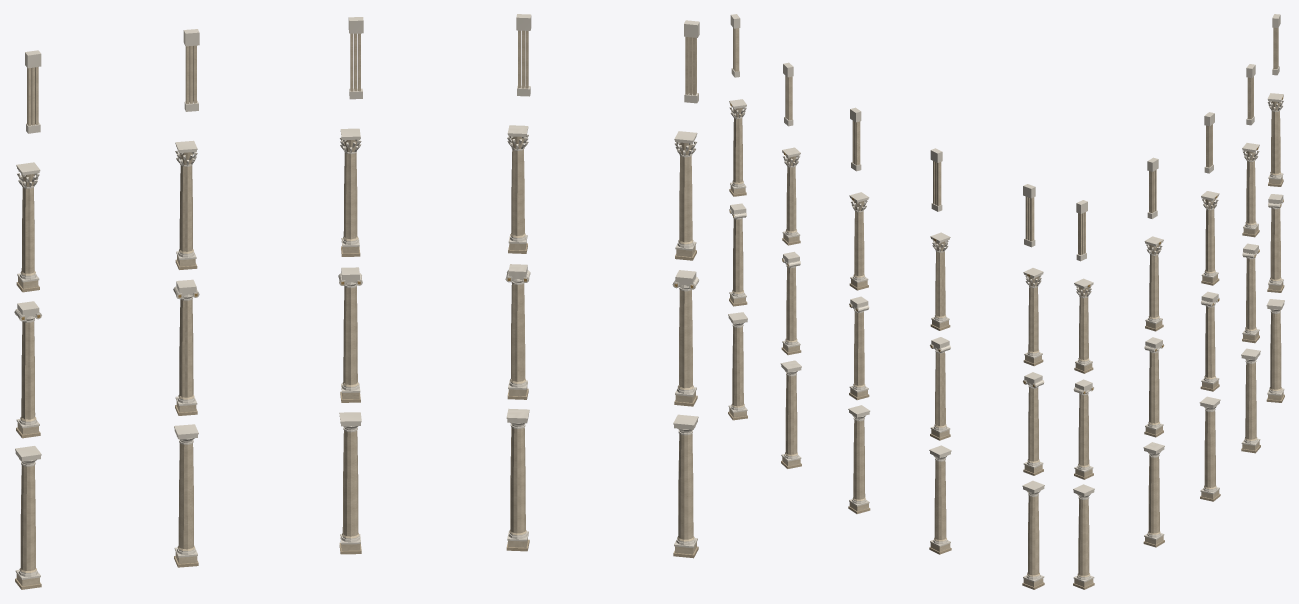
Rendered from COL_ColumnOrders_O7.obj.
3 renders of one model, left to right at view 1: azimuth 30°, elevation 25°; view 2: azimuth 150°, elevation 25°; view 3: azimuth 270°, elevation 25°, orthographic. The views are drawn at different scales.
Visible parts, largest first — view 1: COL_ColumnOrders_O7; view 2: COL_ColumnOrders_O7; view 3: COL_ColumnOrders_O7.
Boxes of the visible parts, bbox=[...] form: COL_ColumnOrders_O7: bbox=[14, 14, 699, 589]; COL_ColumnOrders_O7: bbox=[728, 14, 1044, 589]; COL_ColumnOrders_O7: bbox=[1073, 14, 1284, 589].
Bounding box in the file's own units: 63.24 × 58.2 × 29.07.
Materials: 4 (4 with a texture image).
